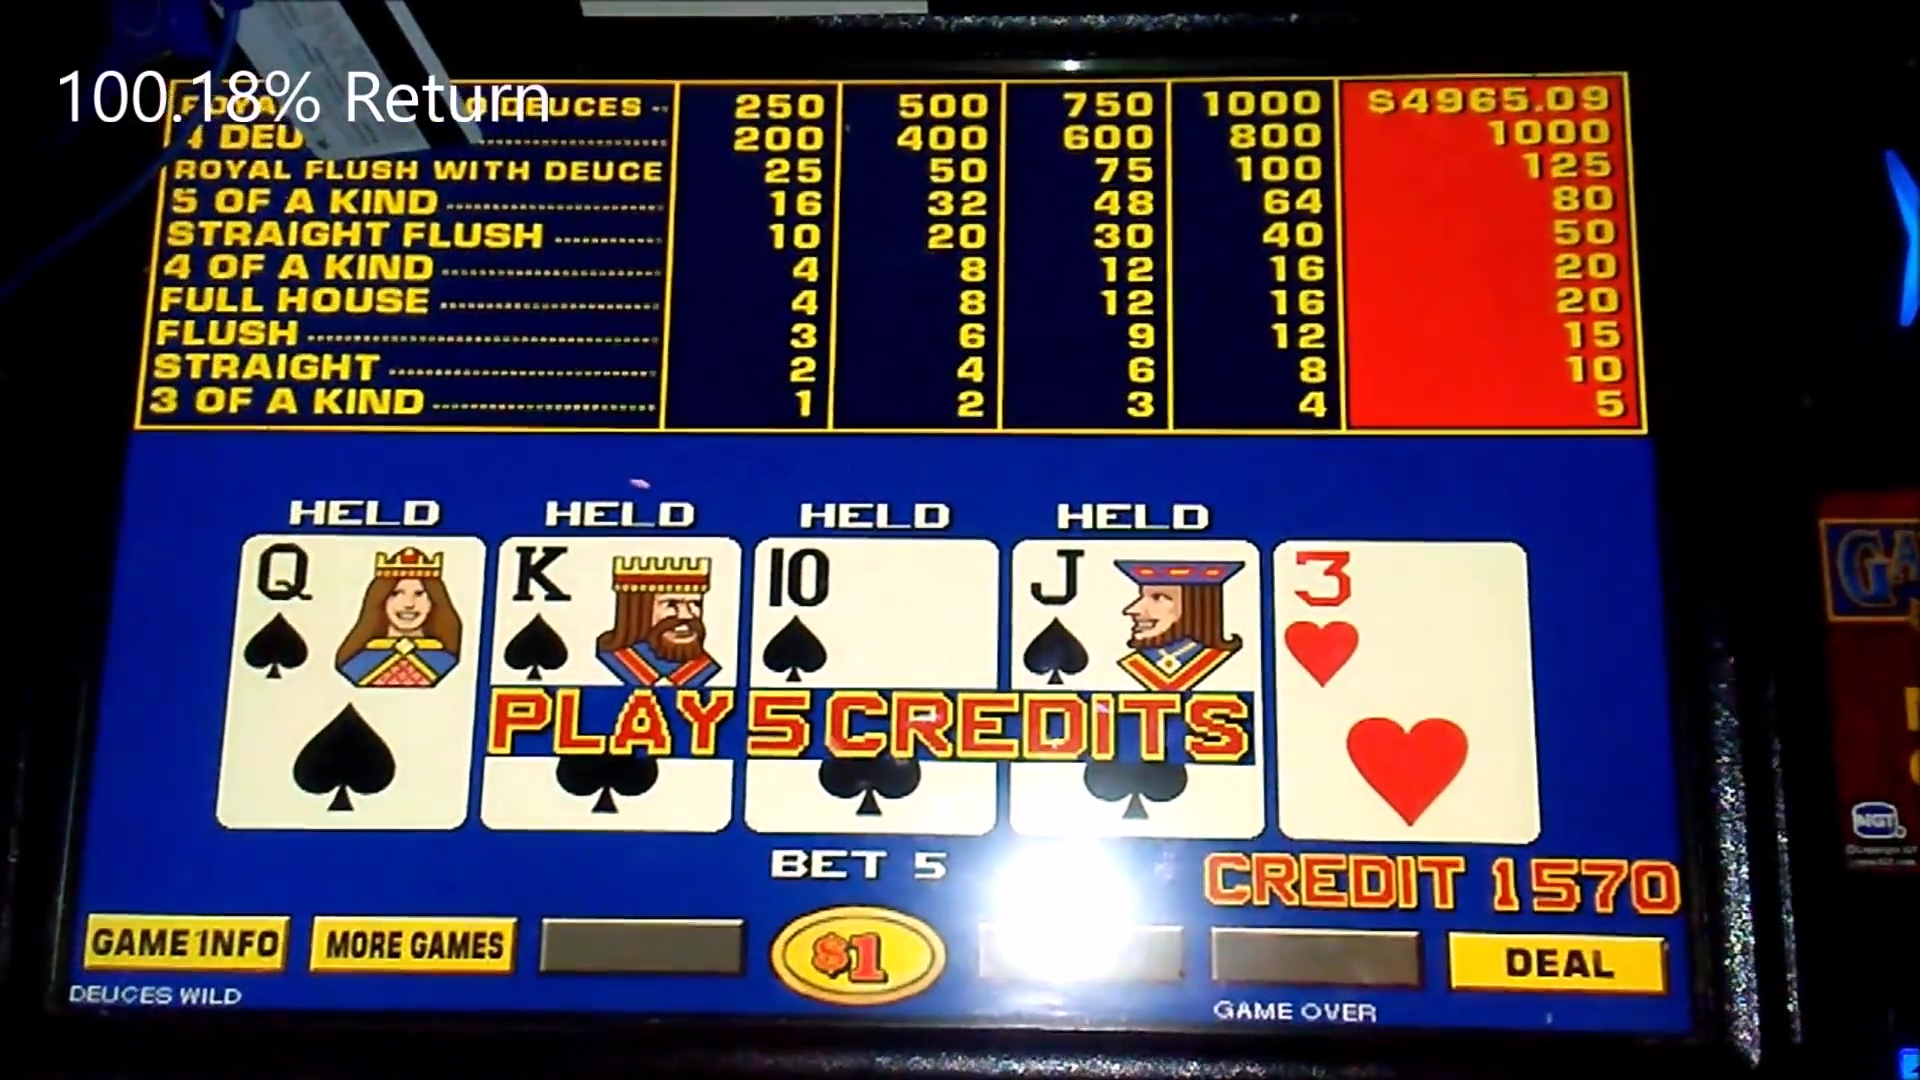3H: (1275, 541, 1524, 684)
JS: (1013, 542, 1255, 680)
KS: (497, 541, 738, 680)
QS: (244, 535, 469, 692)
TS: (757, 542, 997, 682)
